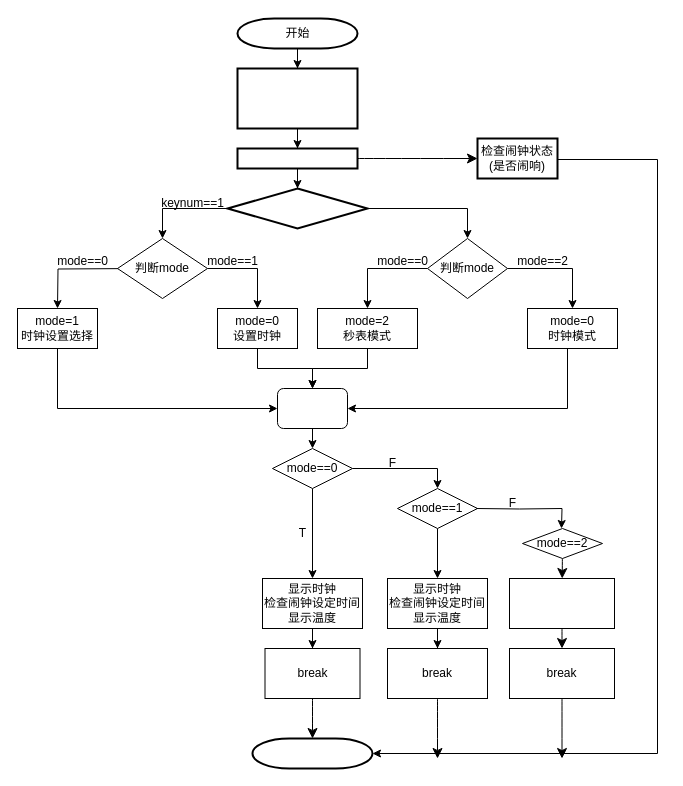
Image size: 683x786. Some labels were removed from this diagram. The shapes that lost their labels are listed below. From the top down, each one's centre as x and y in pixels, then its label:
At point 297,98: "初始化LCD 初始化DS1302 初始化DS18B20 初始化Timer0".
At point 297,158: "主循环".
At point 297,208: "读取键码".
At point 312,408: "mode".
At point 561,603: "进入秒表".
At point 312,753: "结束本次循环".
